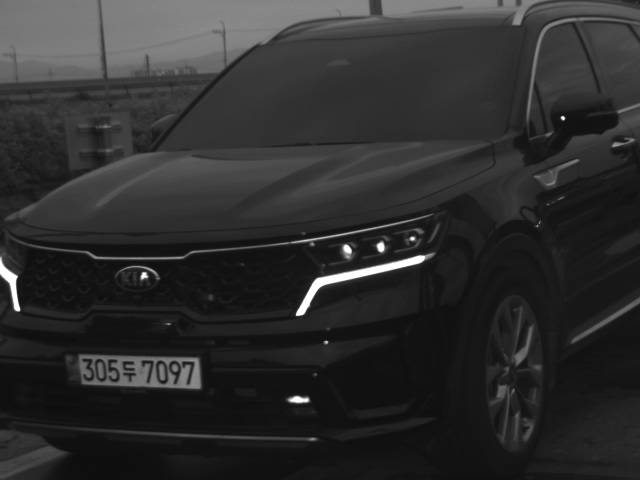car: (1, 2, 640, 474)
plate: (63, 352, 207, 391)
